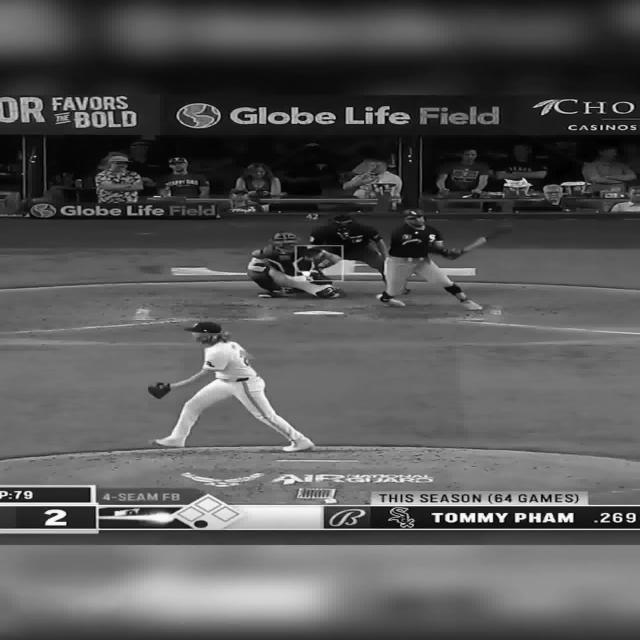baseball_glove: (147, 382, 171, 399)
bat: (460, 231, 498, 249)
shoe: (282, 438, 314, 452), (376, 292, 404, 306), (314, 286, 344, 298), (152, 438, 184, 448), (459, 299, 483, 310), (331, 287, 345, 297), (256, 289, 272, 297)
